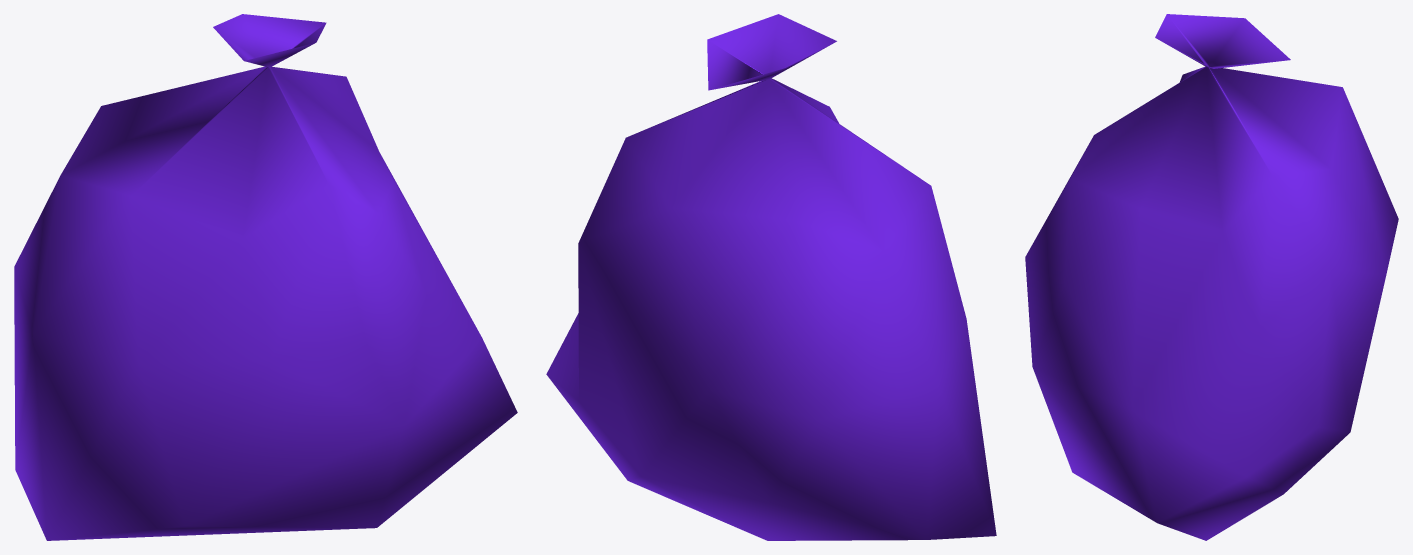
File: trash_02.glb
3 renders of one model, left to right at view 1: azimuth 30°, elevation 25°; view 2: azimuth 150°, elevation 25°; view 3: azimuth 270°, elevation 25°, orthographic. The views are drawn at different scales.
Parts seen in each view (by area): view 1: trash_02; view 2: trash_02; view 3: trash_02.
Boxes of the visible parts, box(x1,y1,x2,y2) form: trash_02: box(14, 14, 517, 540); trash_02: box(546, 14, 996, 540); trash_02: box(1025, 14, 1398, 540).
Size of the model in its own units: 7.89 by 8.14 by 6.08.
